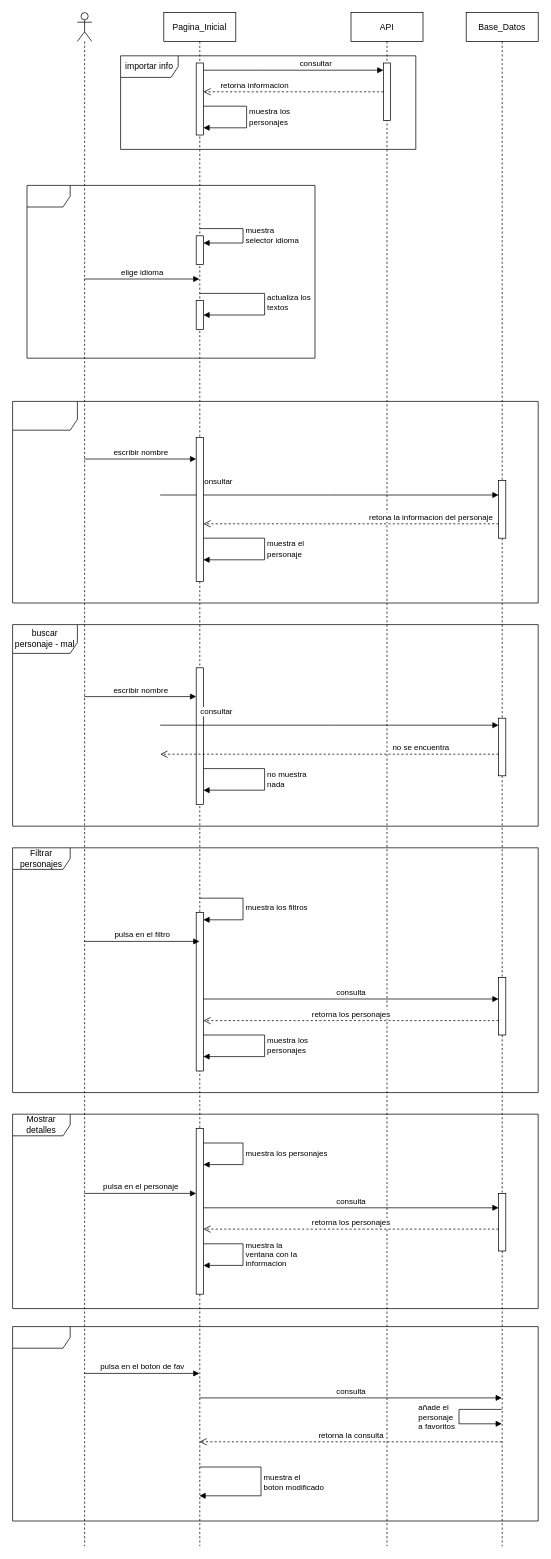
This 551x1559 diagram has some shape labels left out. The shapes that lost their labels are listed below. From the top down, each one's centre as x and y in pixels, then its label:
(170,271): cambio idioma
(275,502): buscar personaje - bien
(275,1423): Poner favoritos
